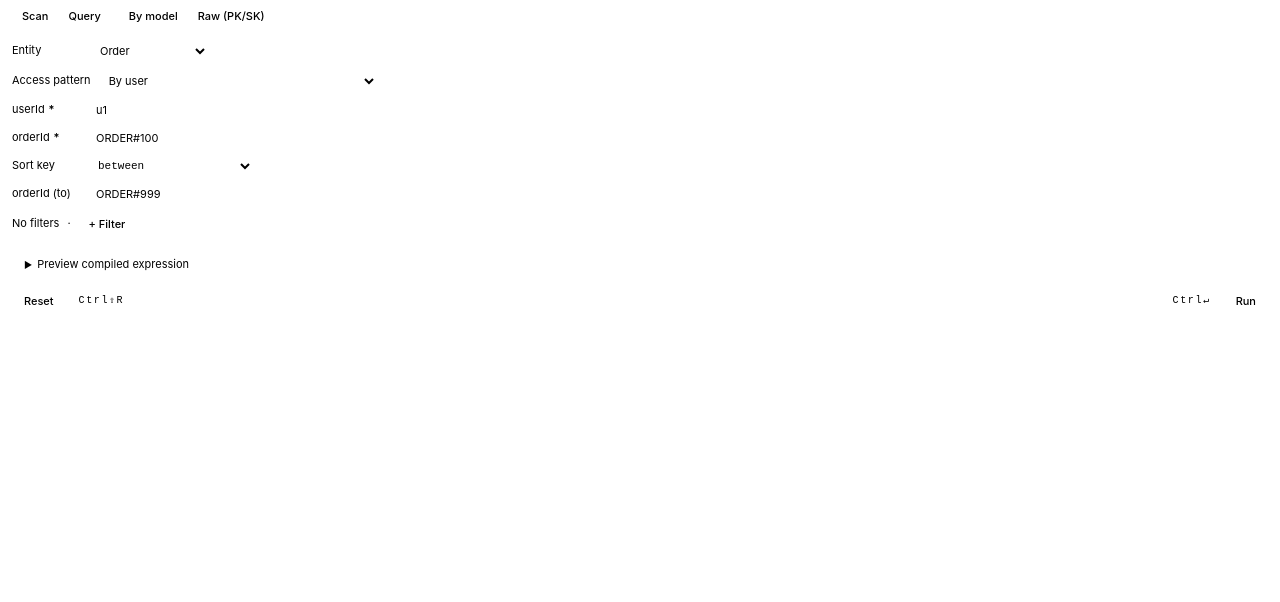
Test: QueryBuilder › By-model mode (task 4.5) › between upper-bound inputs (task 3.3) › filling between upper-bound and lower-bound compiles to a between sort key
Click the button with test id "preview-toggle" at (113, 264), box [12,252,1268,276]
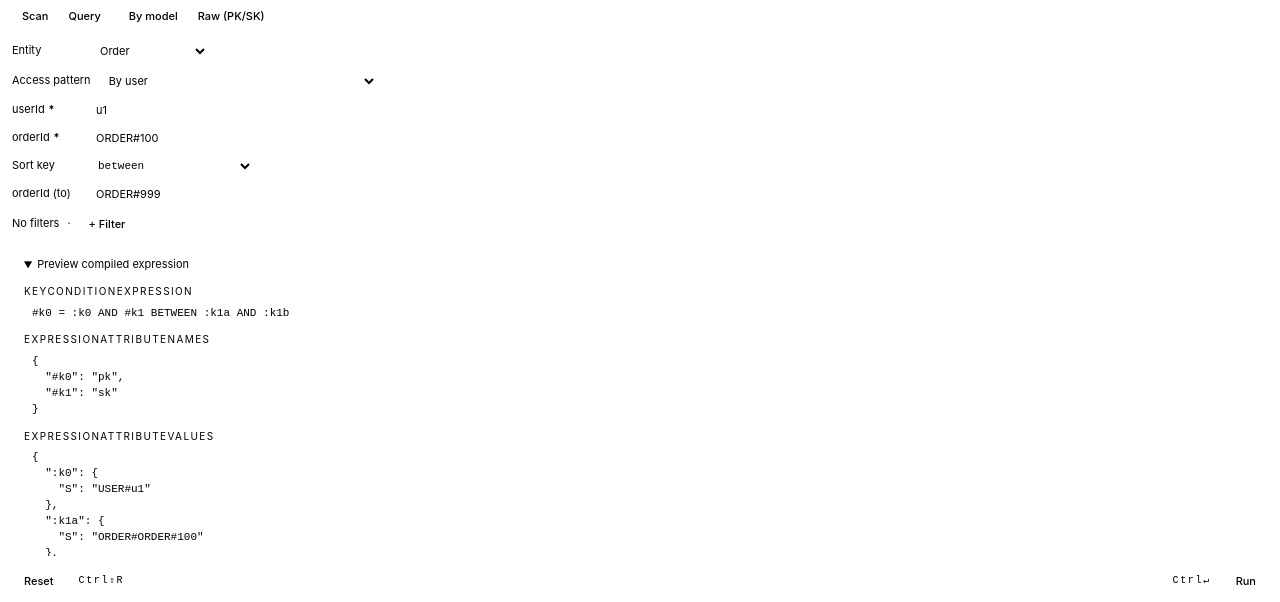
Result: the text with test id "preview-kce" reads "#k0 = :k0 AND #k1 BETWEEN :k1a AND :k1b" at [32,306,290,318]
